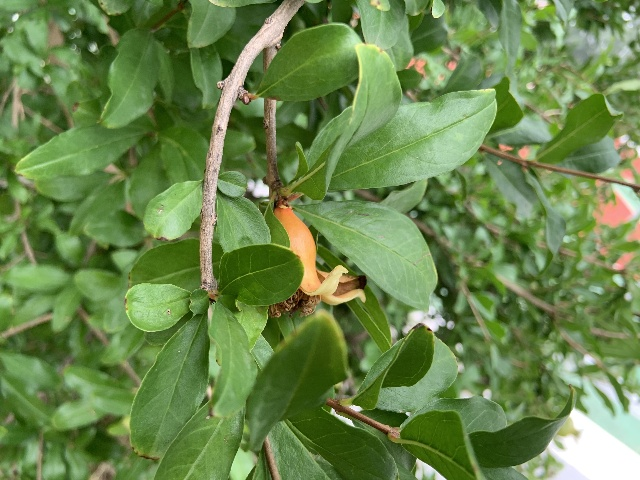early-fruit: (273, 205, 366, 305)
